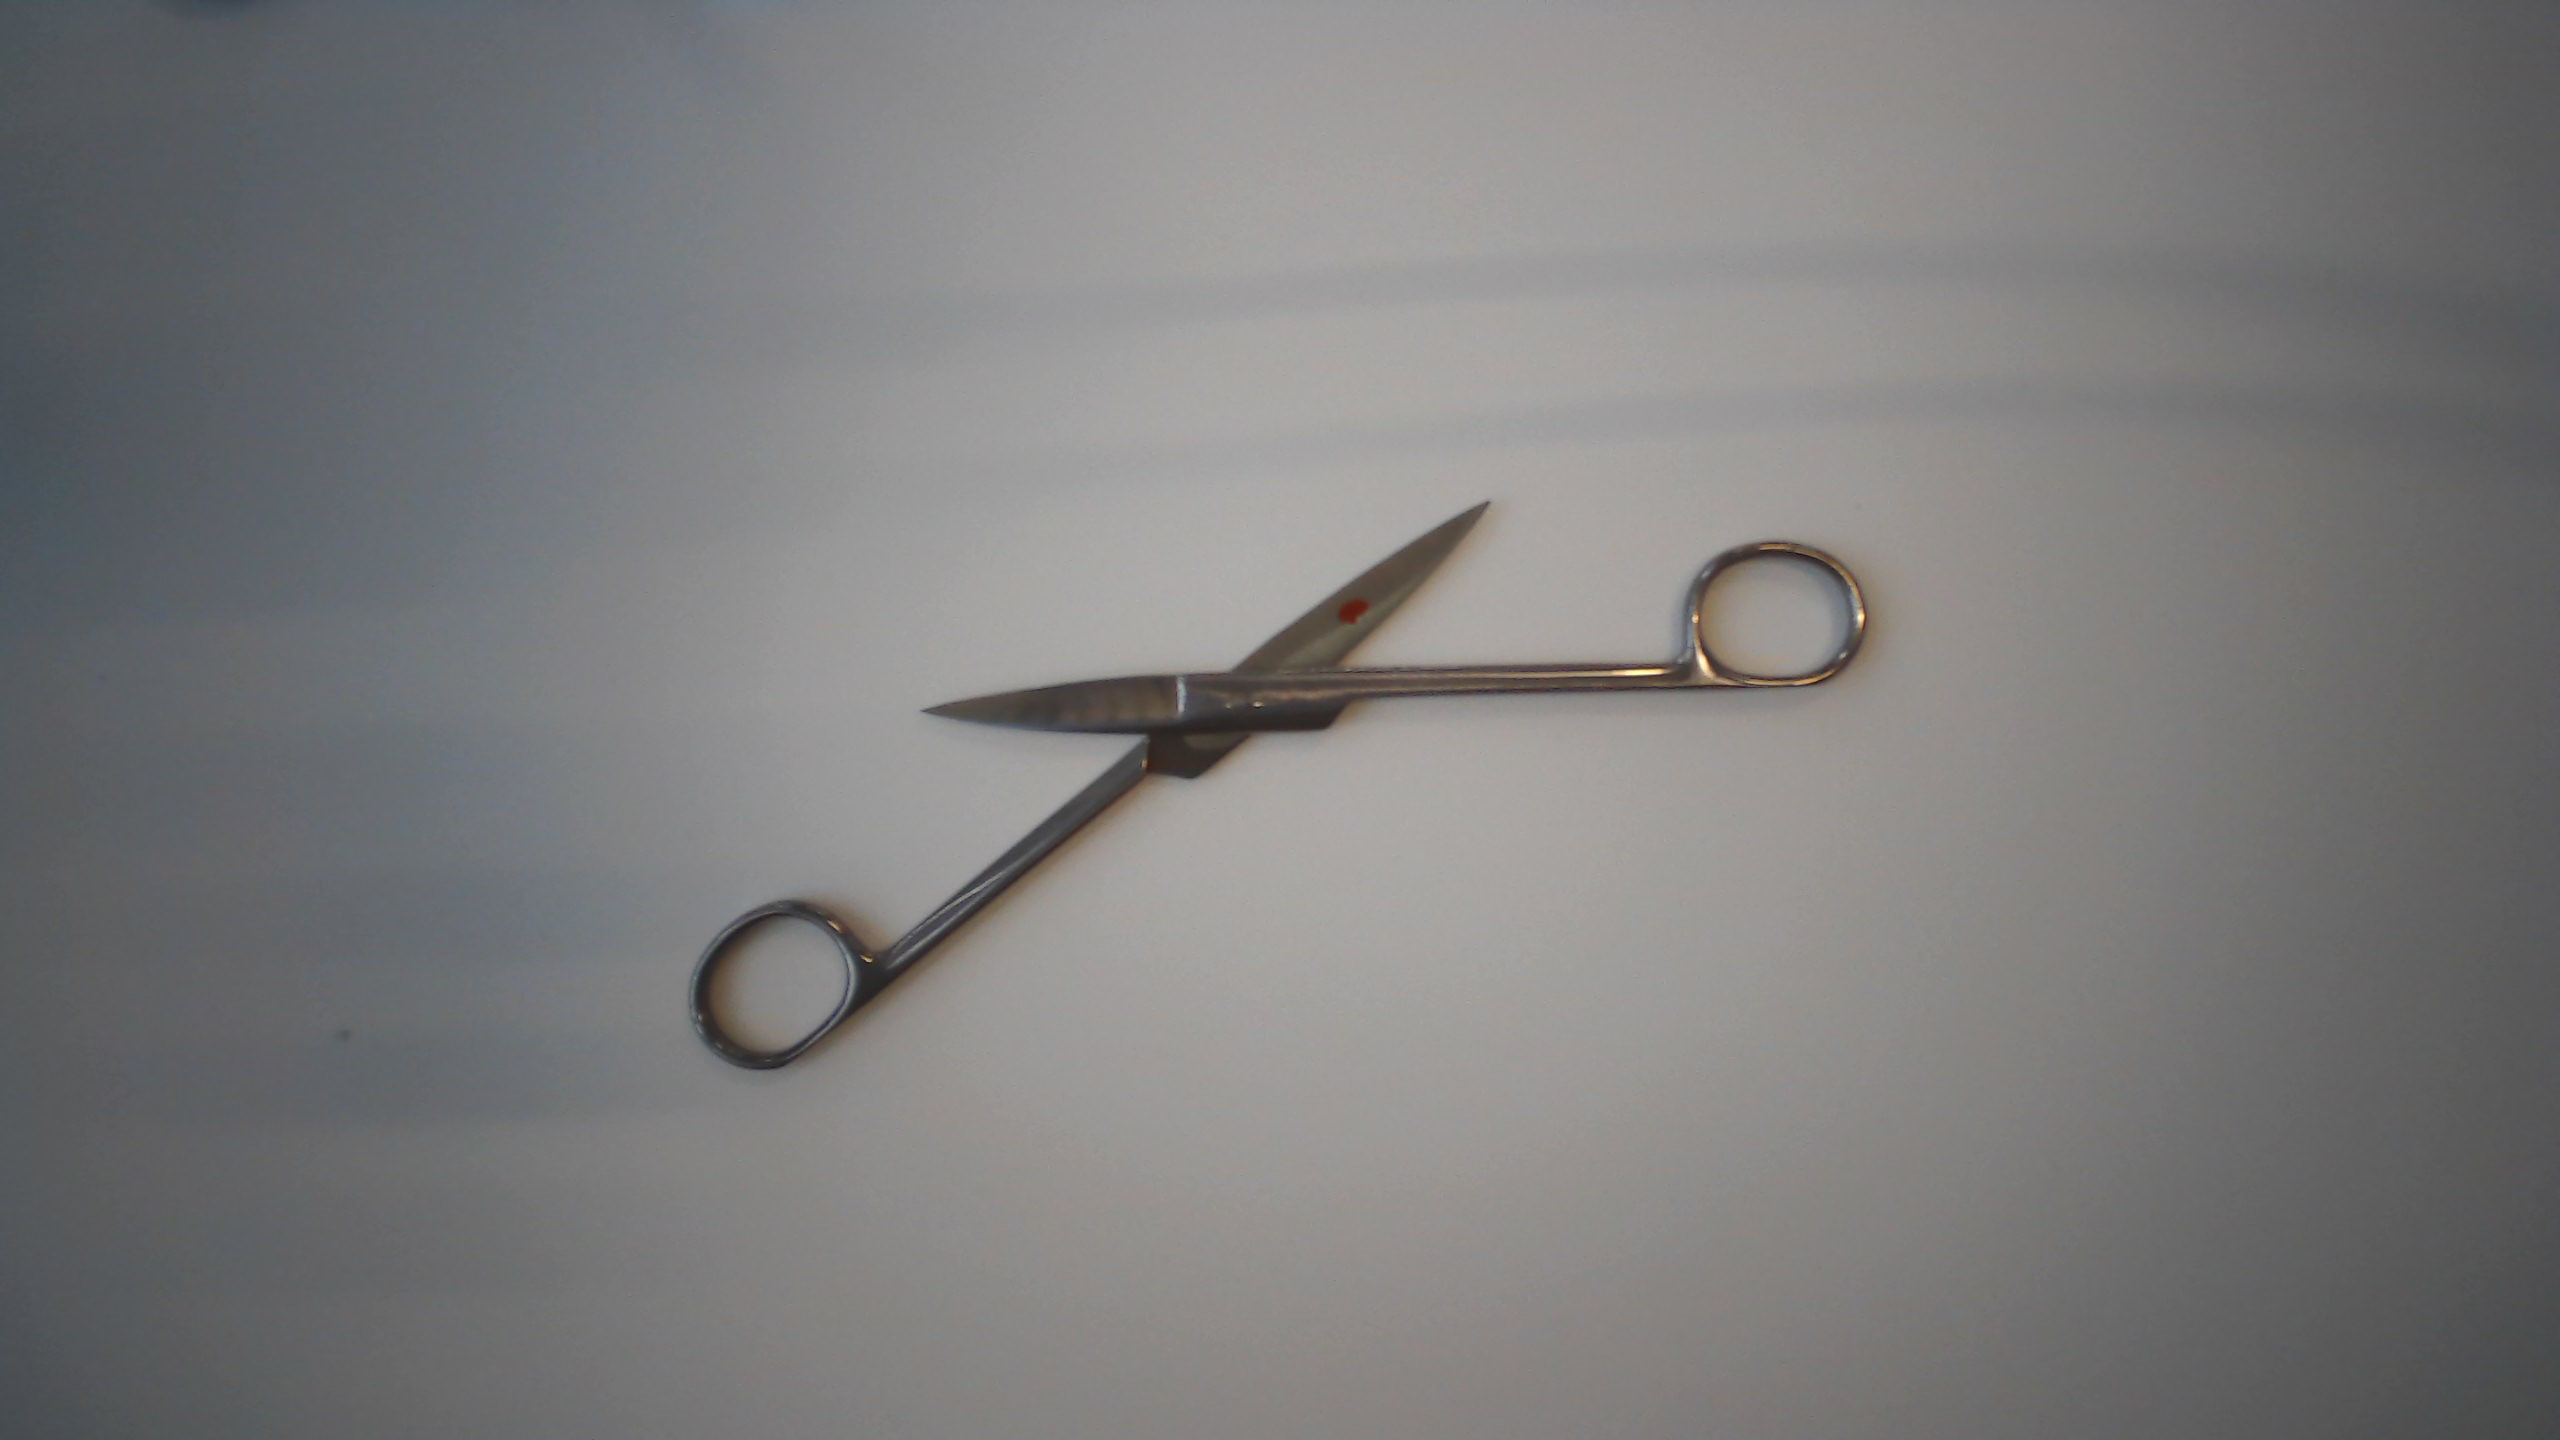Stain: (1327, 589, 1382, 629)
